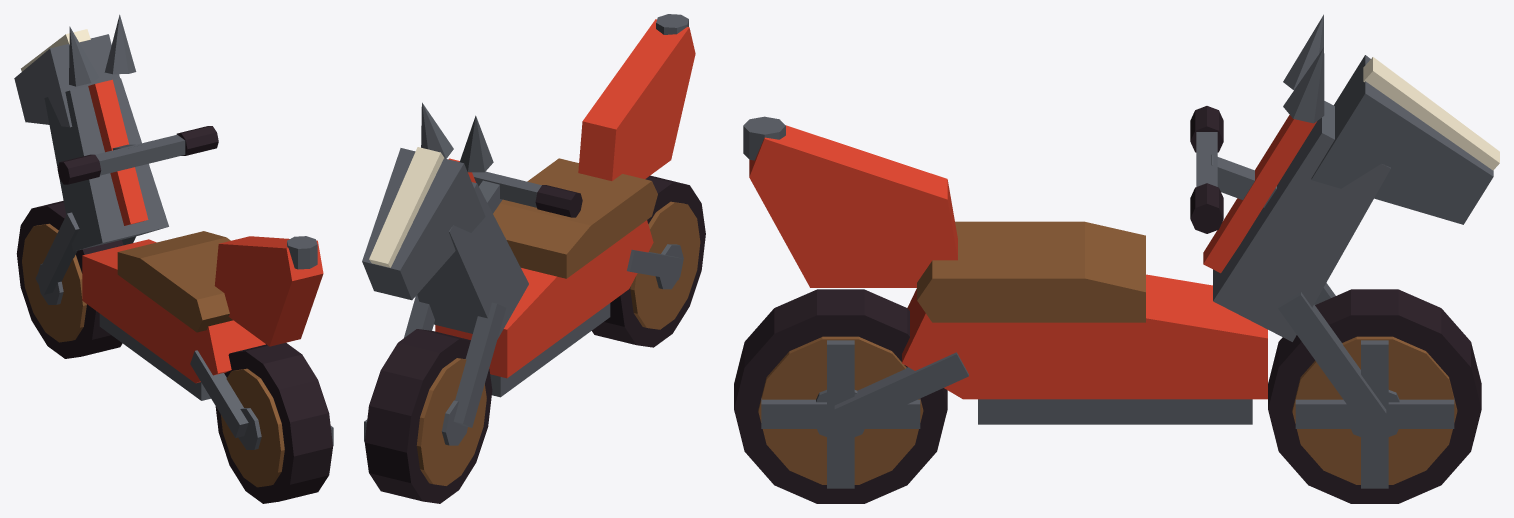
The model's file is veh_bike_war.glb.
3 renders of one model, left to right at view 1: azimuth 30°, elevation 25°; view 2: azimuth 150°, elevation 25°; view 3: azimuth 270°, elevation 25°, orthographic. The views are drawn at different scales.
Visible parts, largest first — view 1: Body, Prow, Wheel_R, Wheel_F, Handlebar; view 2: Body, Prow, Wheel_F, Wheel_R, Handlebar; view 3: Body, Prow, Wheel_F, Wheel_R, Handlebar.
Part boxes in pixels (box(x1,y1,x2,y2)): Body: box(35, 212, 323, 437); Prow: box(14, 14, 168, 251); Wheel_R: box(215, 343, 333, 503); Wheel_F: box(16, 200, 123, 358); Handlebar: box(57, 126, 218, 184); Body: box(404, 14, 695, 427); Prow: box(362, 102, 528, 339); Wheel_F: box(364, 329, 492, 503); Wheel_R: box(592, 175, 705, 347); Handlebar: box(472, 171, 582, 217); Body: box(743, 116, 1386, 431); Prow: box(1203, 14, 1499, 341); Wheel_F: box(1268, 289, 1481, 503); Wheel_R: box(734, 289, 947, 503); Handlebar: box(1190, 106, 1276, 233).
Bounding box in the file's own units: 0.76 × 1.67 × 2.51.
